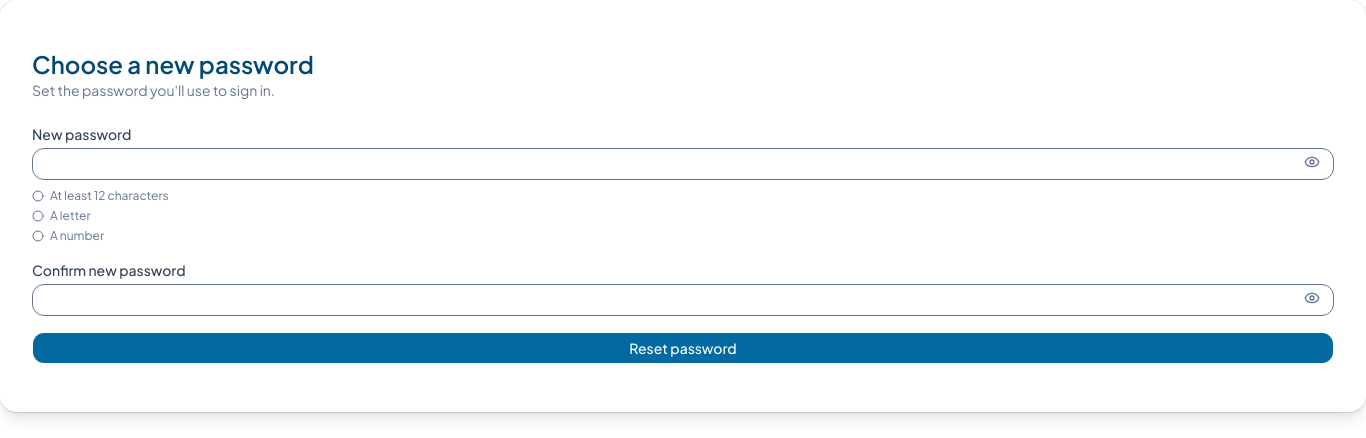
Scenario: ResetPasswordClient (#183) › swaps to the expired-link card with a 'Request a new link' path when the token is invalid/expired (FP-032)
In the password field labelled "New password": (683, 164) [32,148,1334,180], type "BrandNewPass123"
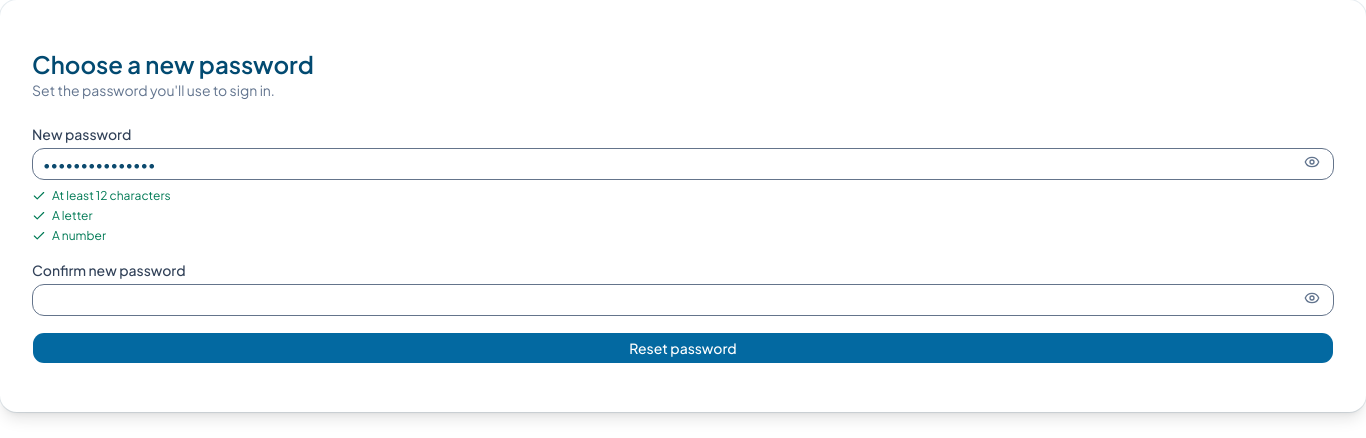
In the password field labelled "Confirm new password": (683, 300) [32,284,1334,316], type "BrandNewPass123"
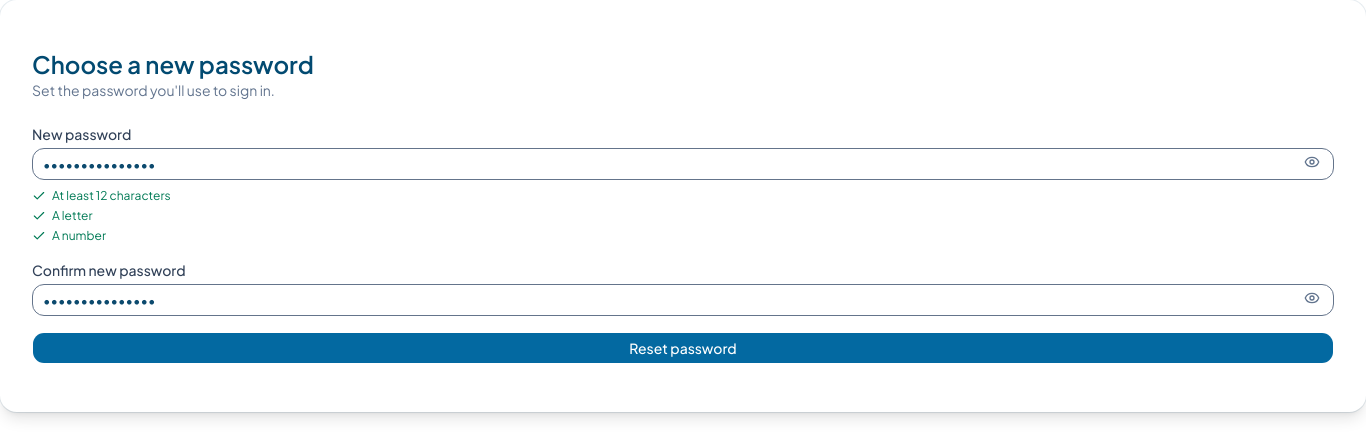
Click the button "Reset password": click(683, 348) [32,332,1334,364]
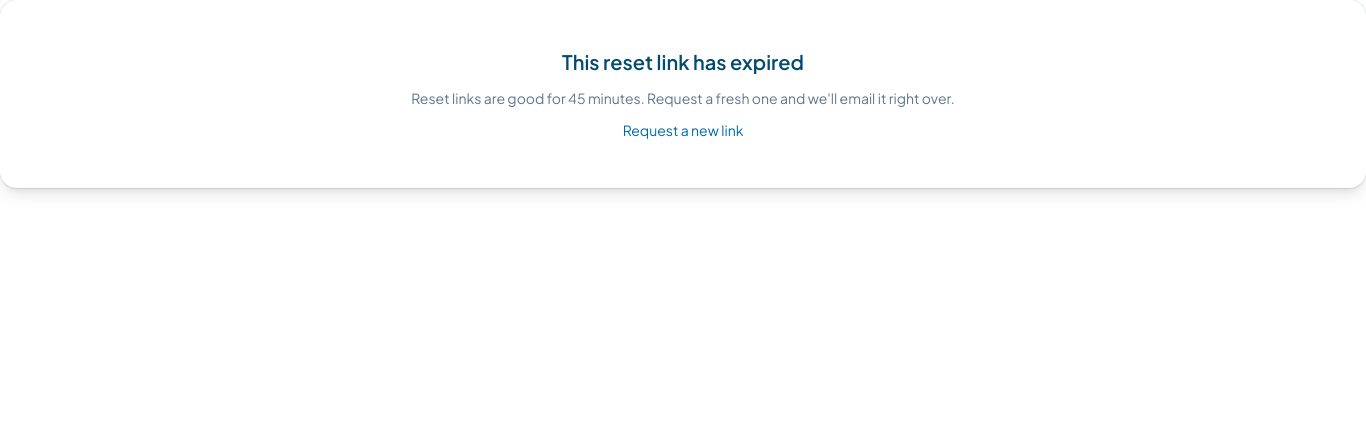
Now the heading "This reset link has expired" is shown, box [562,49,804,74]
Now the button "Reset password" is gone
